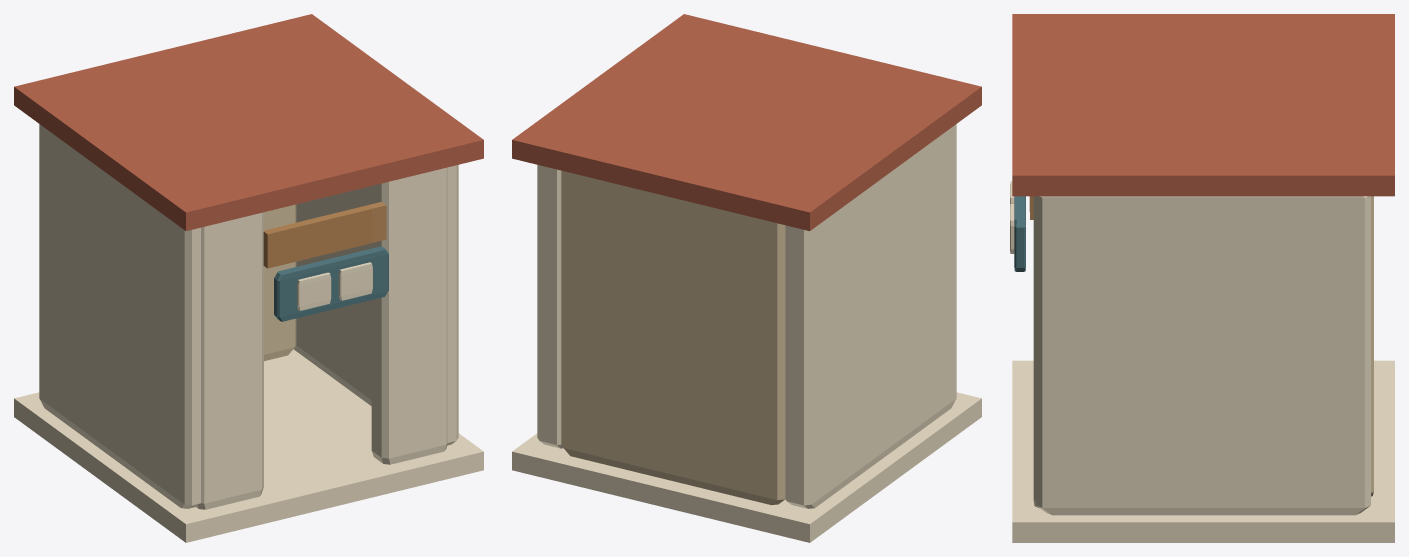
The model's file is school.glb.
The picture shows the model from 3 angles, left to right: view 1: azimuth 30°, elevation 25°; view 2: azimuth 150°, elevation 25°; view 3: azimuth 270°, elevation 25°; orthographic projection. The views are drawn at different scales.
Parts seen in each view (by area): view 1: PlasterWall, Floor, DoorSide2, DoorSide, Cap2, Cap4, Cap, Cap3, PlasterWall2, DoorLintel, SchoolSign, BackWall (+2 smaller); view 2: BackWall, PlasterWall, Cap, Cap3, Floor, Cap2, Cap4, PlasterWall2; view 3: PlasterWall2, Cap4, Cap3, Floor, Cap, Cap2, DoorSide2, SchoolSign, BackWall.
Part boxes in pixels (<box>): PlasterWall: <box>39,124,200,508</box>; Floor: <box>14,349,483,542</box>; DoorSide2: <box>371,167,447,464</box>; DoorSide: <box>196,212,263,509</box>; Cap2: <box>100,113,334,230</box>; Cap4: <box>249,77,483,194</box>; Cap: <box>14,50,248,167</box>; Cap3: <box>163,14,397,112</box>; PlasterWall2: <box>293,165,458,445</box>; DoorLintel: <box>263,202,386,268</box>; SchoolSign: <box>274,246,388,321</box>; BackWall: <box>264,204,296,361</box>; BackWall: <box>561,170,785,505</box>; PlasterWall: <box>785,124,956,508</box>; Cap: <box>661,113,895,230</box>; Cap3: <box>512,77,746,194</box>; Floor: <box>512,392,981,542</box>; Cap2: <box>747,50,981,167</box>; Cap4: <box>598,14,832,112</box>; PlasterWall2: <box>537,165,563,448</box>; PlasterWall2: <box>1036,196,1370,515</box>; Cap4: <box>1012,94,1203,196</box>; Cap3: <box>1203,94,1394,196</box>; Floor: <box>1012,360,1394,542</box>; Cap: <box>1203,14,1394,94</box>; Cap2: <box>1012,14,1203,94</box>; DoorSide2: <box>1033,196,1039,508</box>; SchoolSign: <box>1014,196,1025,271</box>; BackWall: <box>1371,196,1373,496</box>.
Size of the model in its own units: 2 by 2.12 by 2.01.
